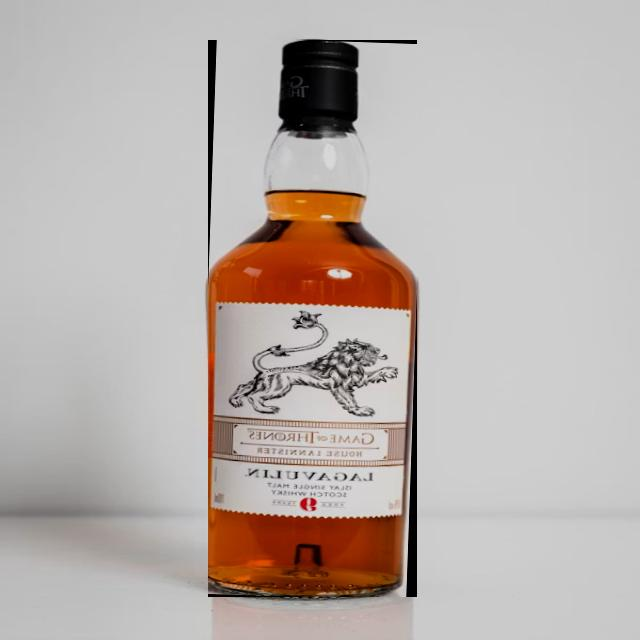Bottle: (208, 40, 416, 597)
